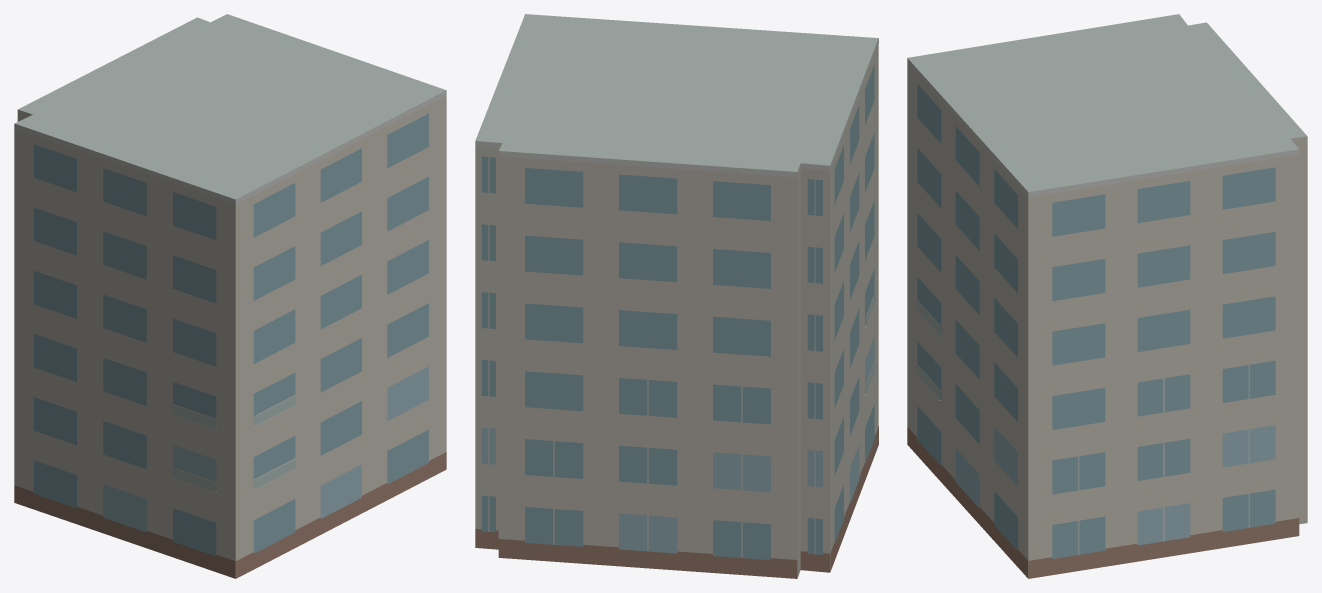
File: survey-upis-32950820.glb
3 renders of one model, left to right at view 1: azimuth 30°, elevation 25°; view 2: azimuth 150°, elevation 25°; view 3: azimuth 270°, elevation 25°, orthographic. The views are drawn at different scales.
Parts seen in each view (by area): view 1: survey-upis-32950820.tmp; view 2: survey-upis-32950820.tmp; view 3: survey-upis-32950820.tmp.
Boxes of the visible parts, x1,y1,x2,y2 form: survey-upis-32950820.tmp: [14, 14, 446, 578]; survey-upis-32950820.tmp: [475, 14, 878, 578]; survey-upis-32950820.tmp: [907, 14, 1307, 578].
Bounding box in the file's own units: 18.1 × 18.3 × 17.18.
